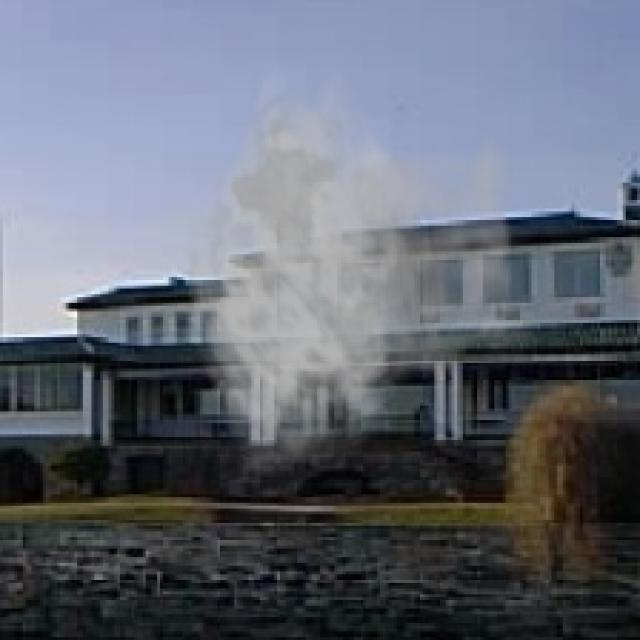Smoke: (185, 60, 546, 477)
